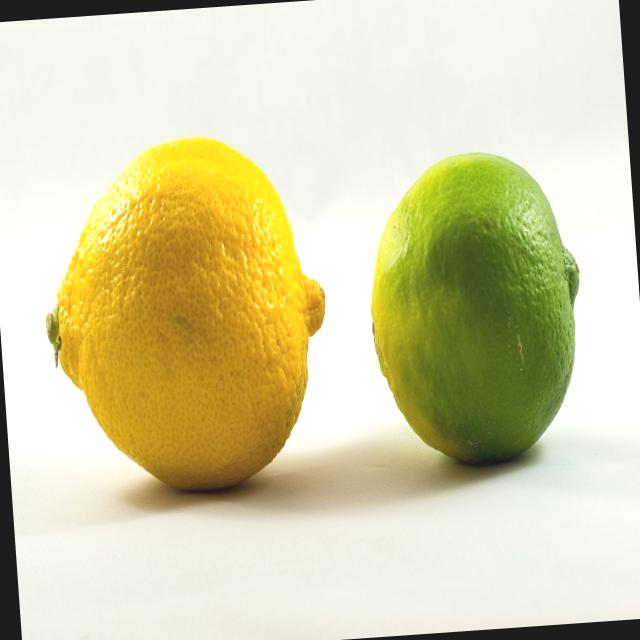lemon: (29, 126, 342, 497), (354, 142, 594, 470)
